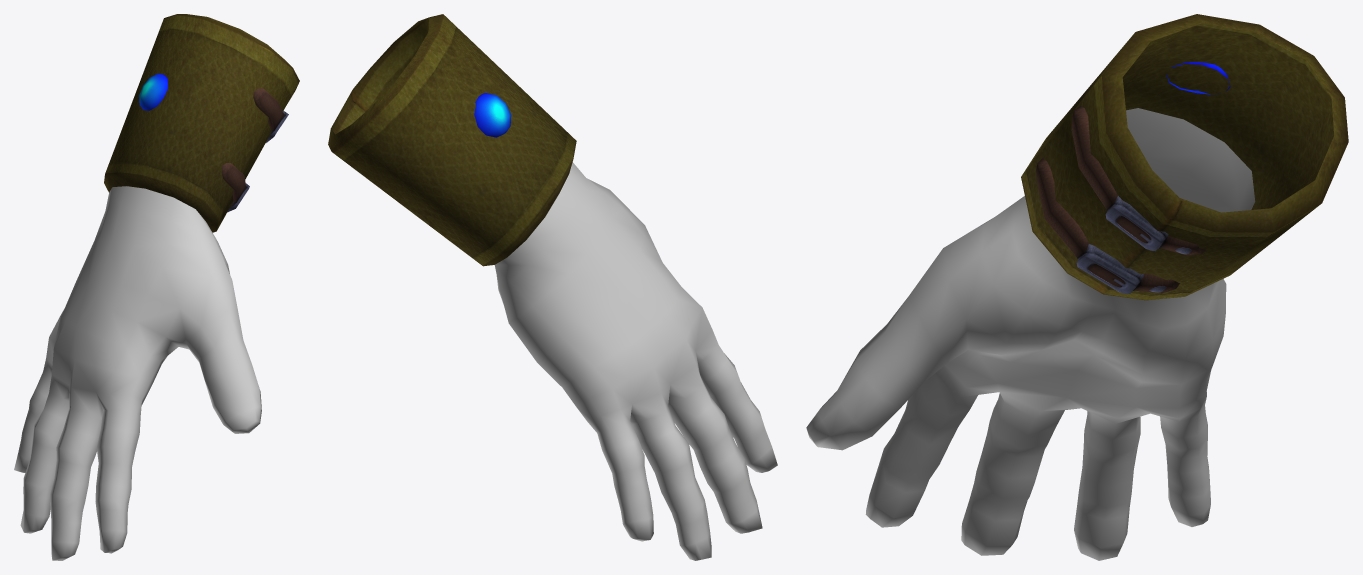
Rendered from SM_R_hand.fbx.
The picture shows the model from 3 angles, left to right: view 1: azimuth 30°, elevation 25°; view 2: azimuth 150°, elevation 25°; view 3: azimuth 270°, elevation 25°; orthographic projection. The views are drawn at different scales.
Parts seen in each view (by area): view 1: SM_R_hand; view 2: SM_R_hand; view 3: SM_R_hand.
Part boxes in pixels (x1=…): SM_R_hand: x1=14, y1=14, x2=299, y2=560; SM_R_hand: x1=328, y1=14, x2=777, y2=560; SM_R_hand: x1=806, y1=14, x2=1348, y2=560.
Bounding box in the file's own units: 20.92 × 29.23 × 20.52.
